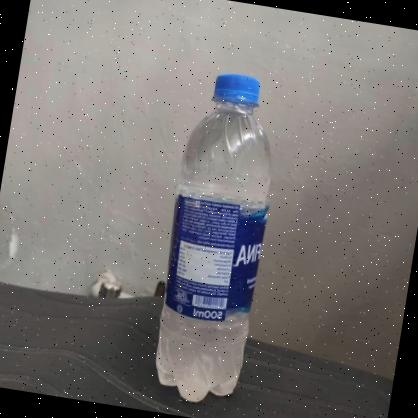bottle: (140, 64, 293, 403)
cap: (207, 68, 265, 116)
label: (157, 198, 266, 330)
